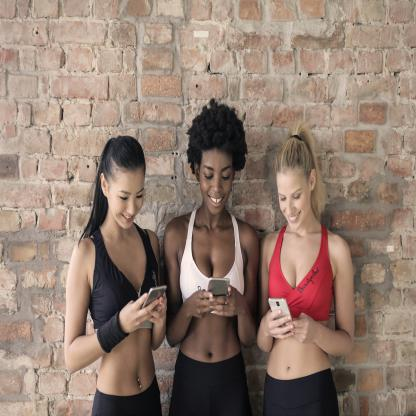Eye: (203, 170, 214, 180), (292, 192, 302, 202), (278, 193, 288, 203), (118, 194, 129, 202), (221, 173, 231, 181), (136, 192, 145, 200)
Mouth: (207, 194, 226, 208), (286, 212, 302, 224), (121, 212, 134, 223)
Nose: (211, 174, 223, 194), (284, 198, 296, 216), (126, 198, 138, 216)
